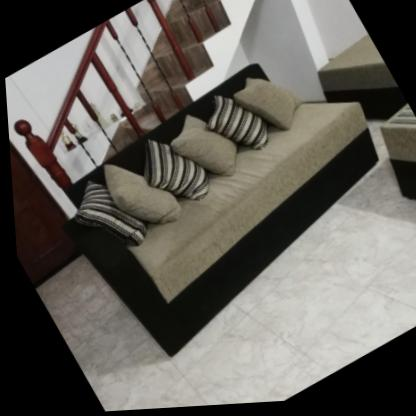Sofa: (28, 28, 416, 379)
